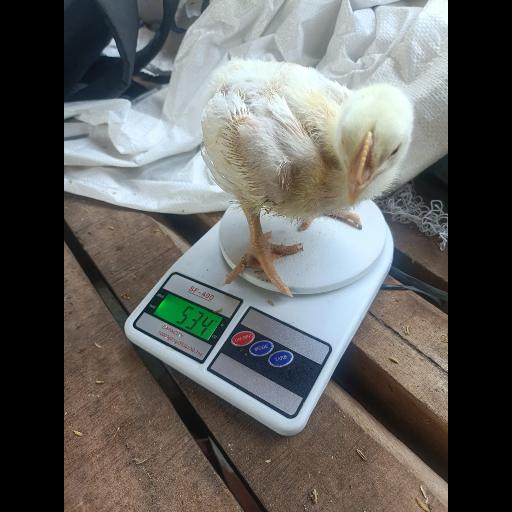chick: (202, 59, 414, 297)
